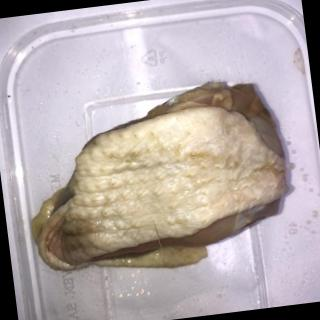Ayam: (15, 72, 299, 286)
